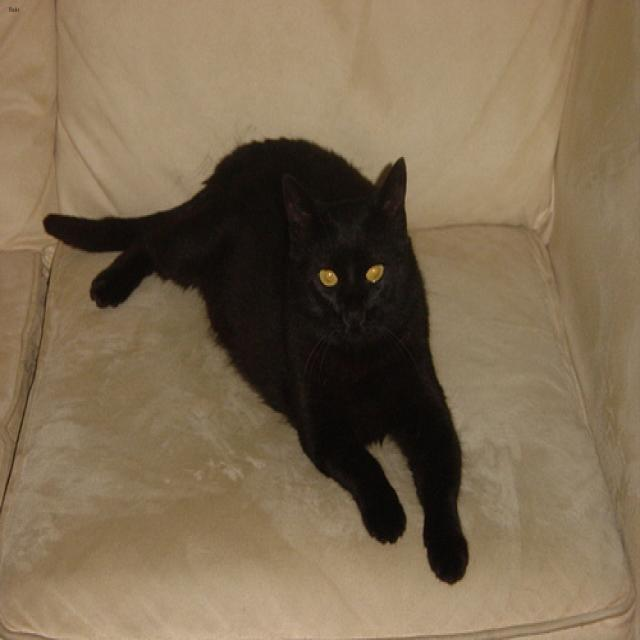Bombay: (276, 162, 422, 374)
